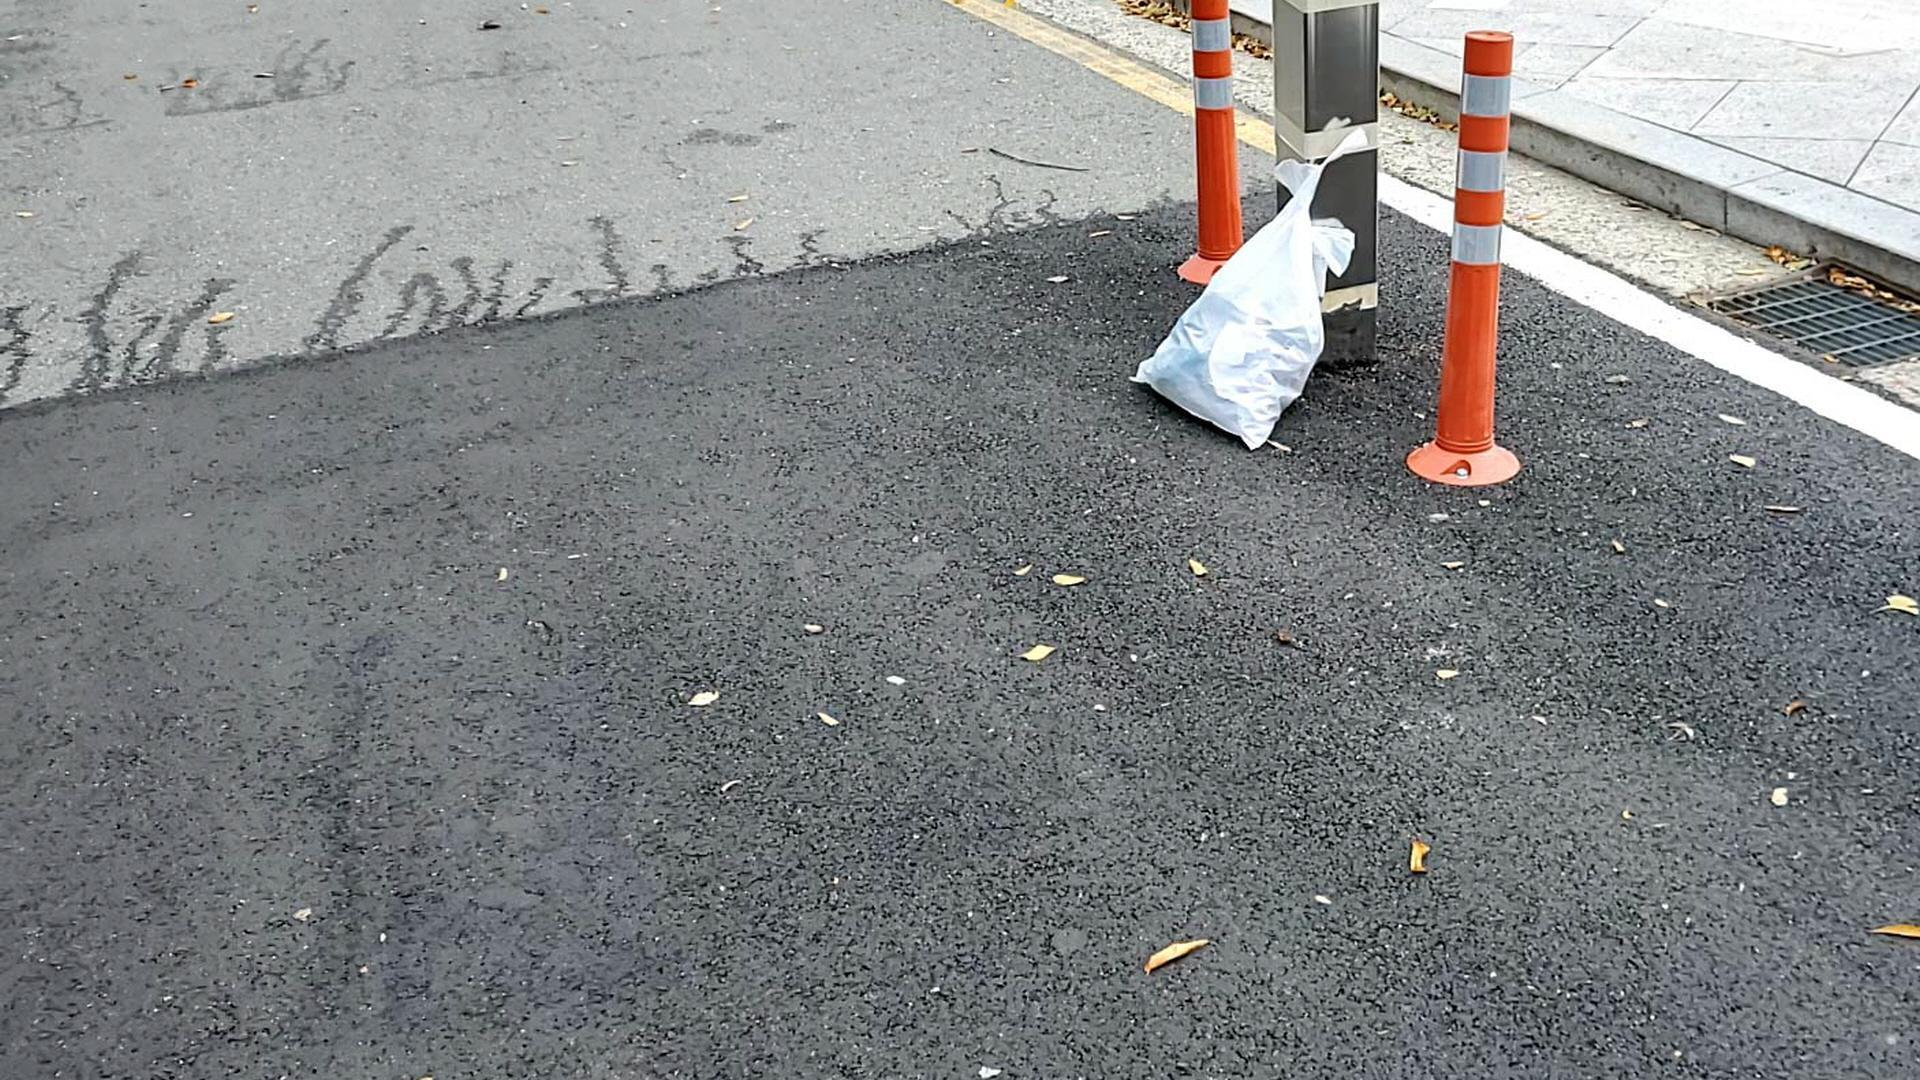white_bag: (1105, 120, 1373, 462)
